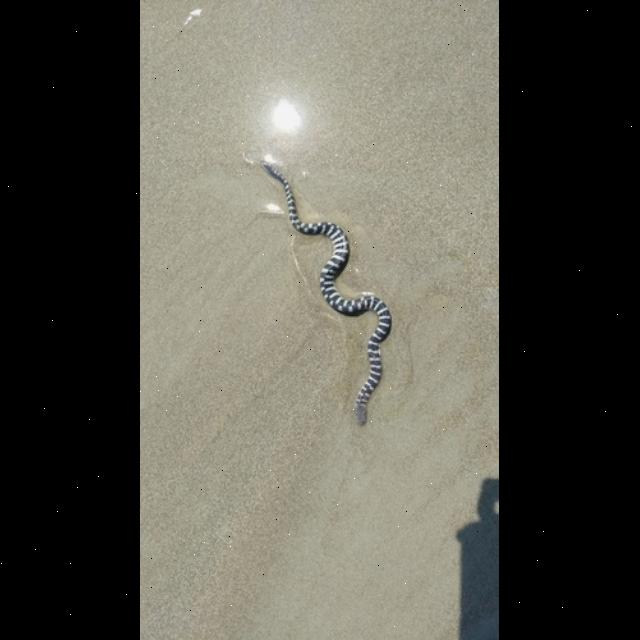snake: (238, 146, 398, 438)
